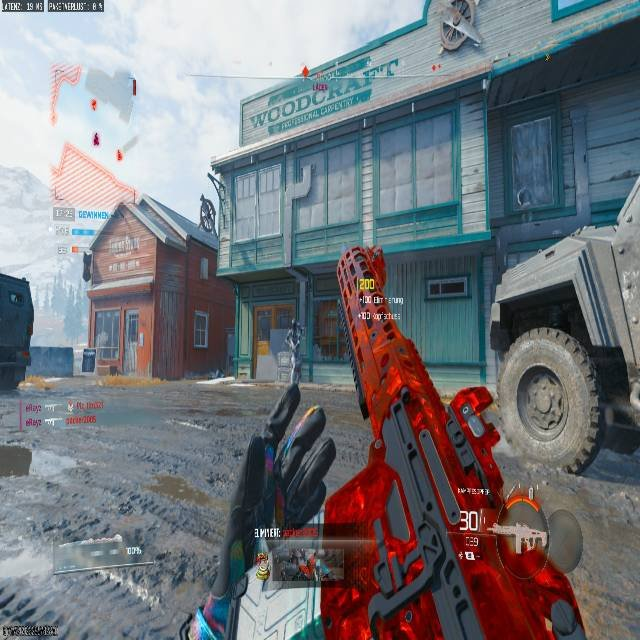head: (494, 329, 596, 442)
player: (276, 324, 306, 385), (287, 319, 303, 354)
